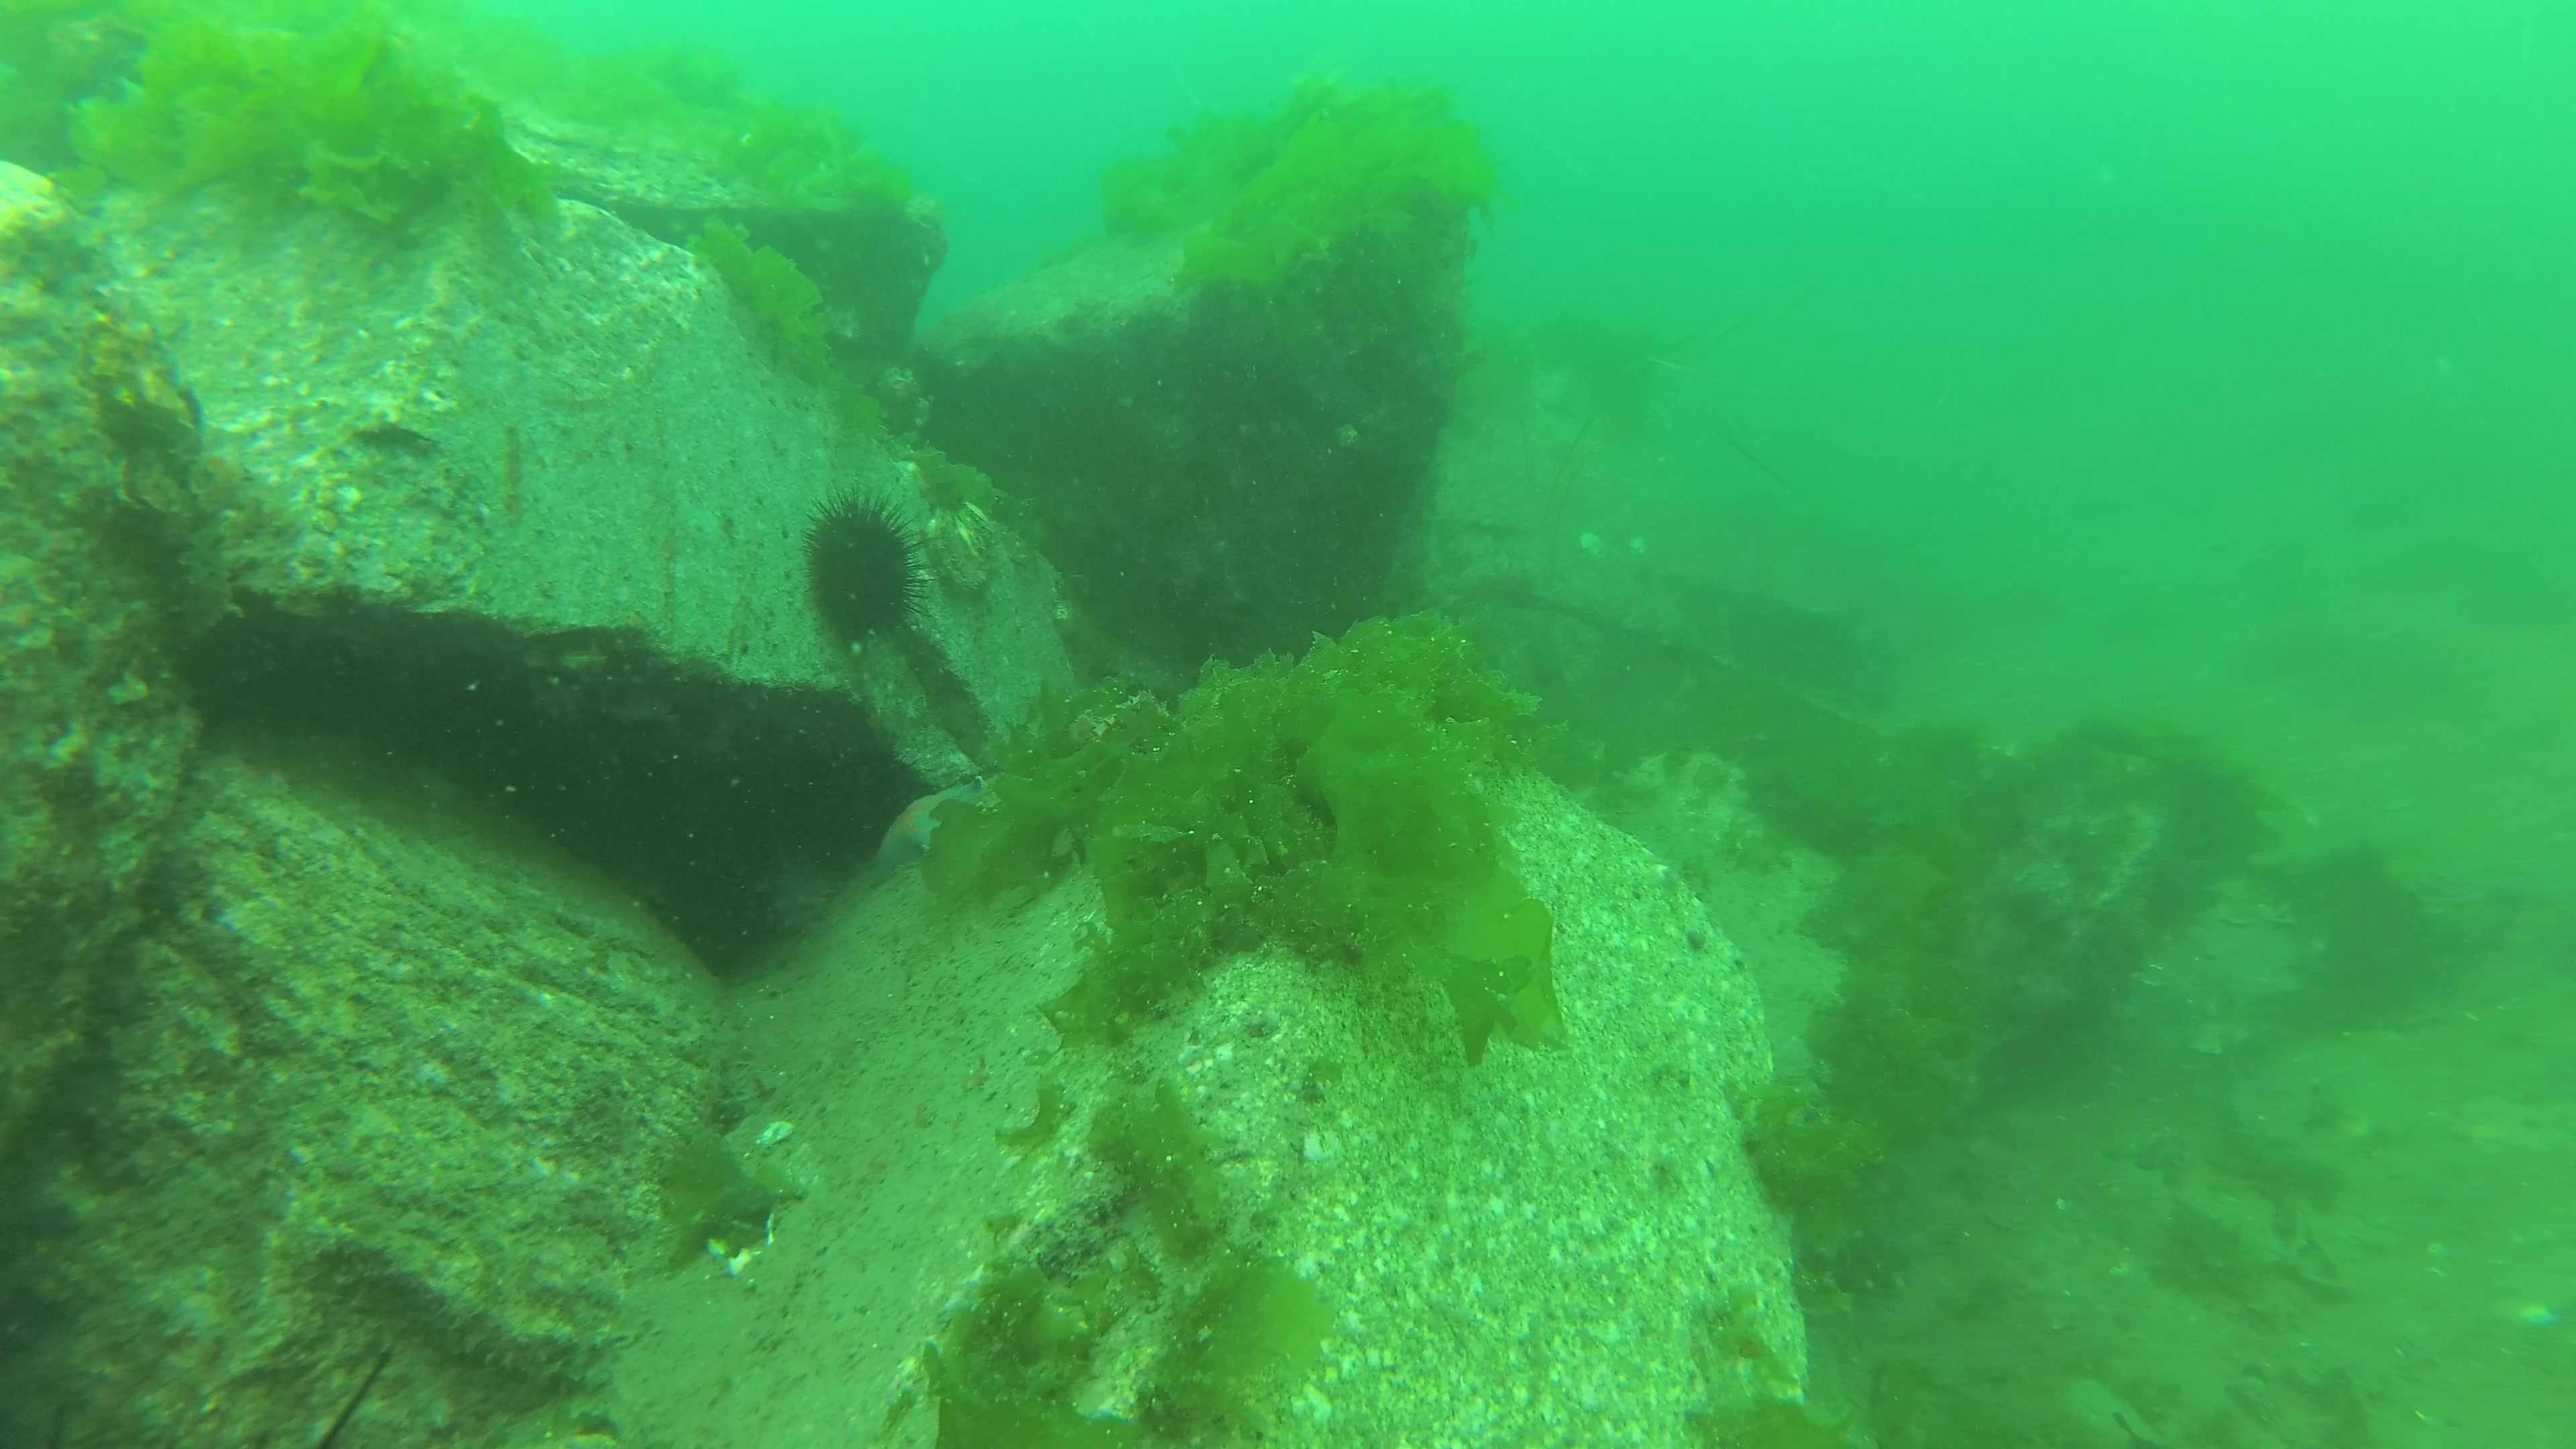echinus: (791, 479, 939, 663)
starfish: (867, 777, 985, 881)
